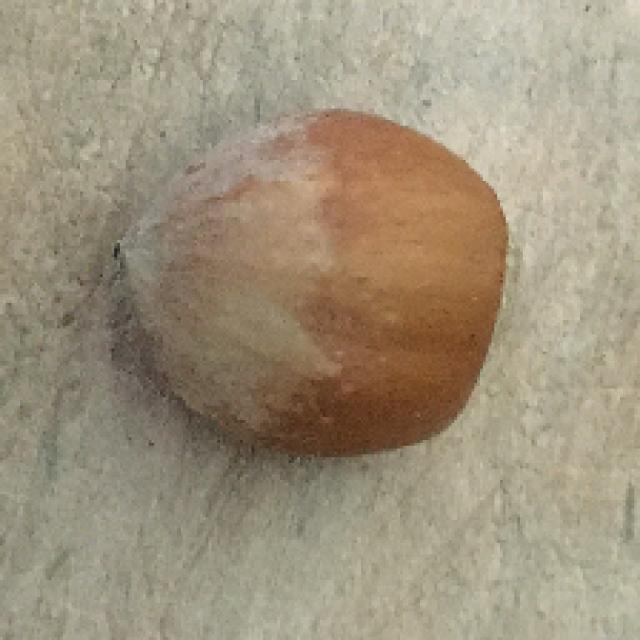qualityHazelnut: (99, 108, 519, 464)
